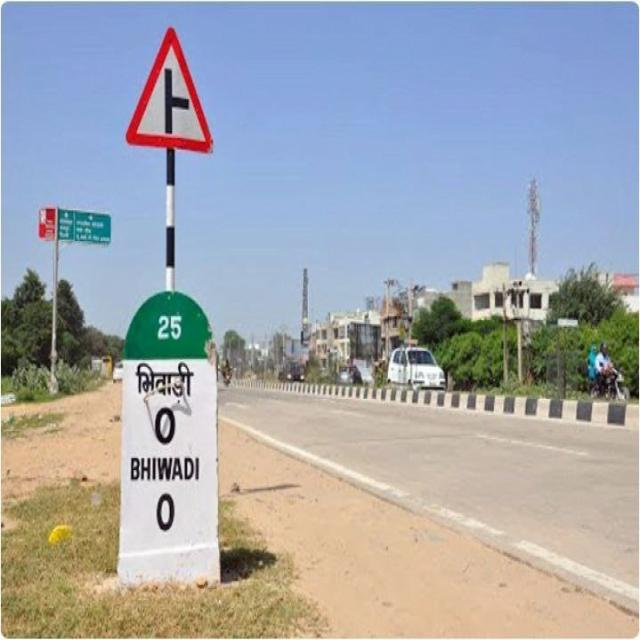Sideroad_toright: (126, 22, 222, 186)
